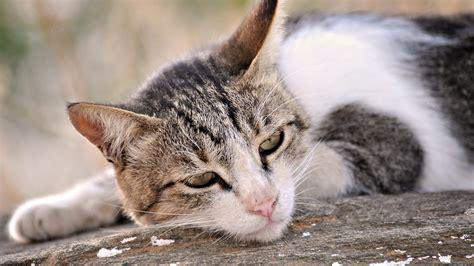cat: (7, 1, 474, 244)
